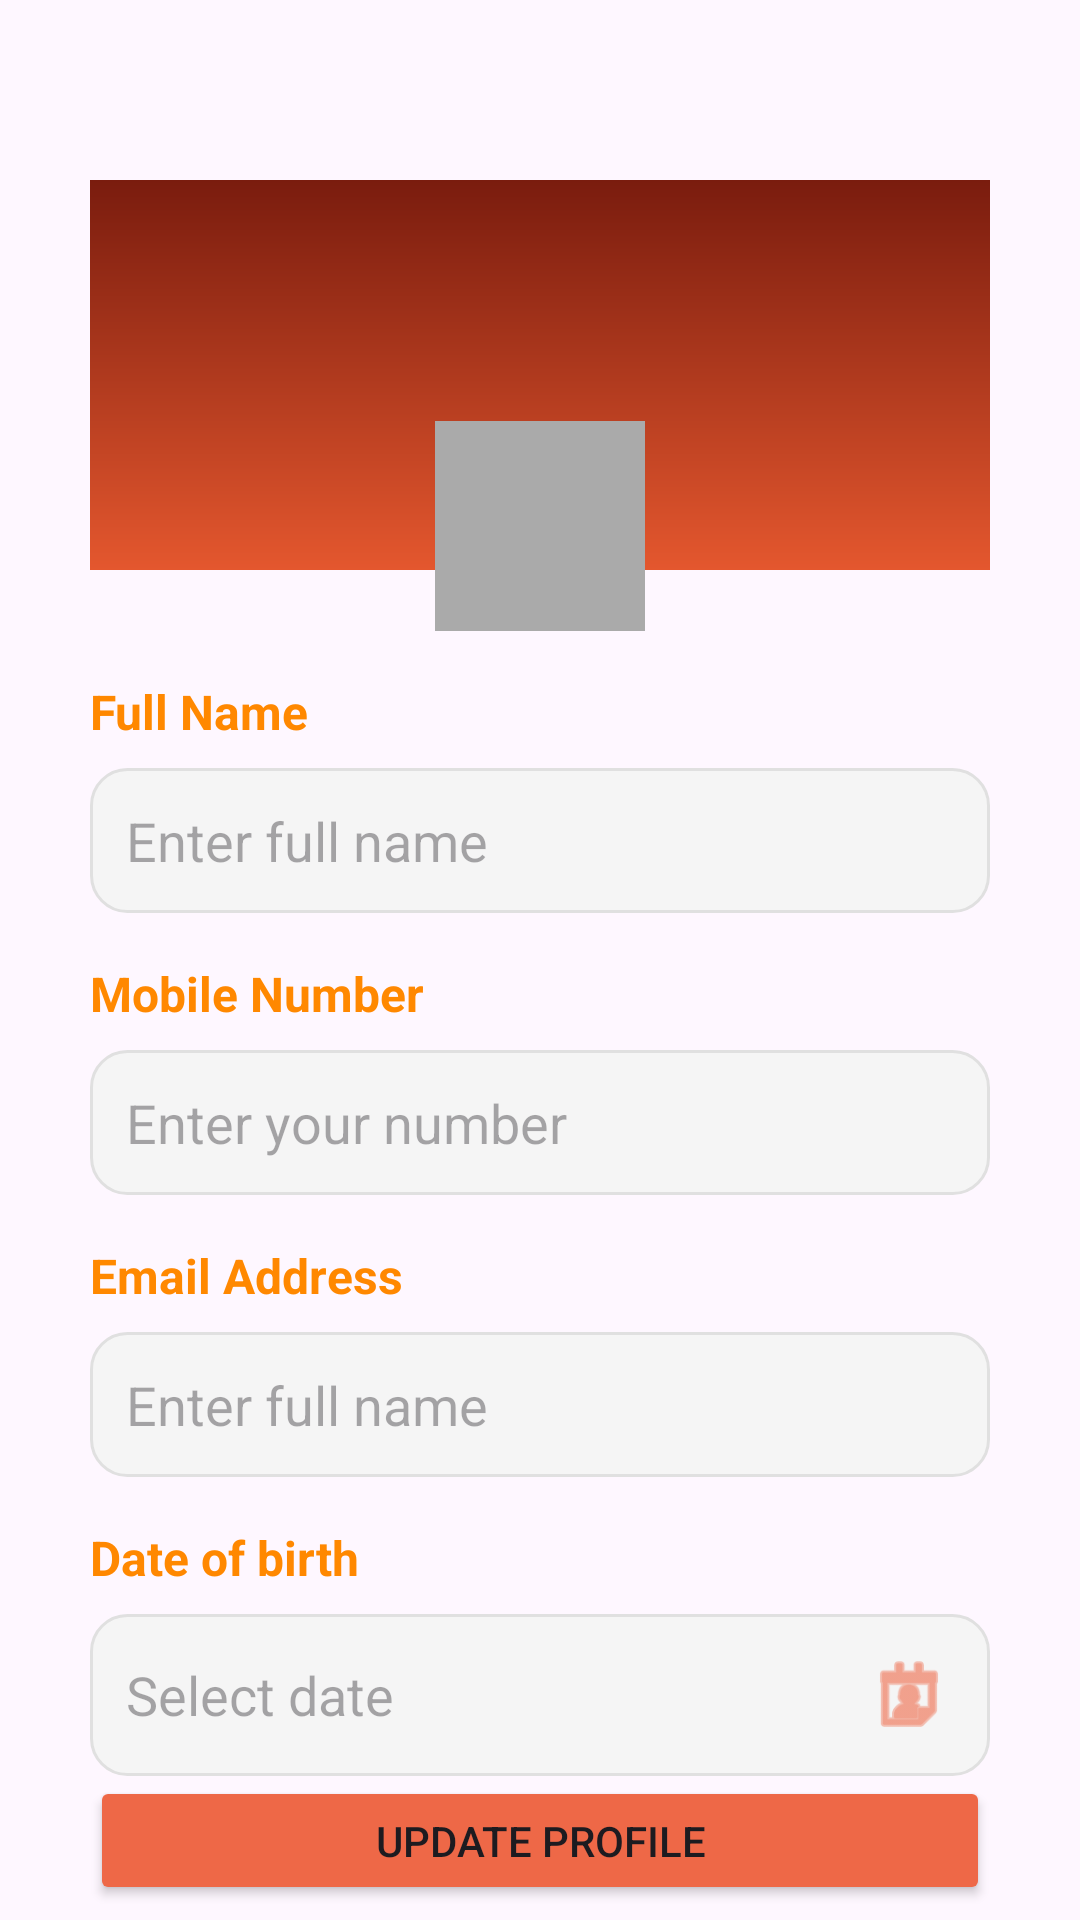

Icon click points for this 1080 × 1920 phone screenshot, format (x=x, y=y):
calendar: (x=909, y=1694)
